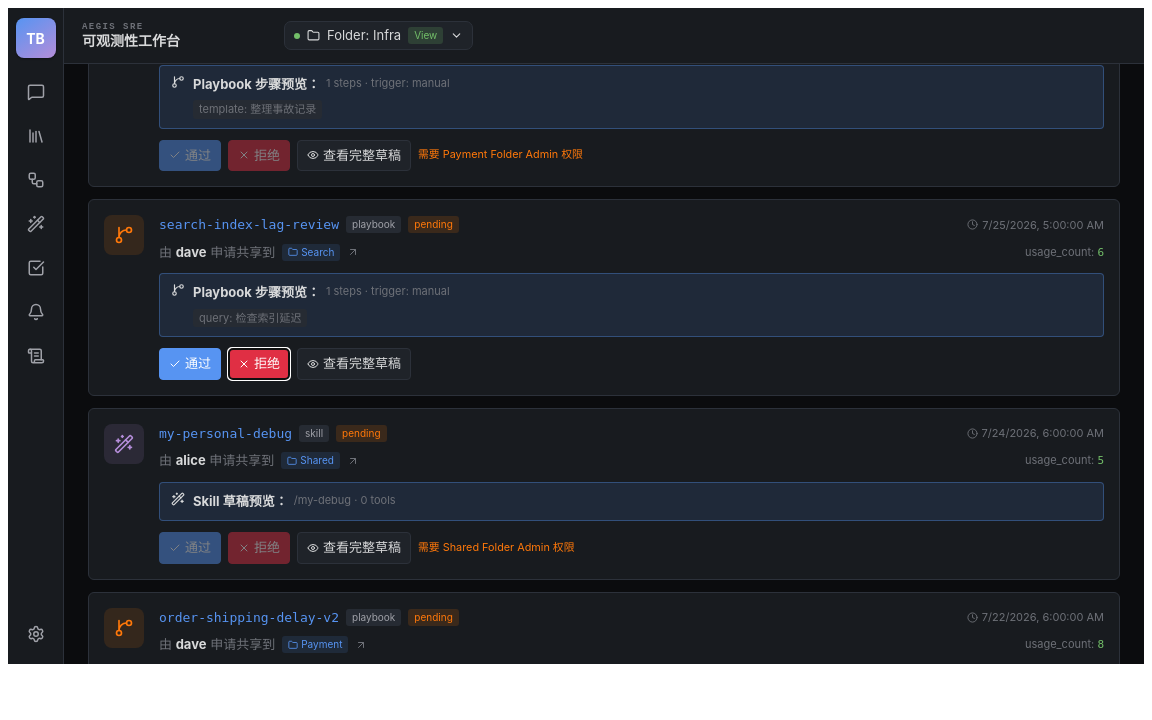
it: ApprovalsPage › validates rejection reason and persists a rejection
(page scrolled)
Click the button "拒绝" below "query" at coordinates (259, 364), box [228, 348, 290, 380]
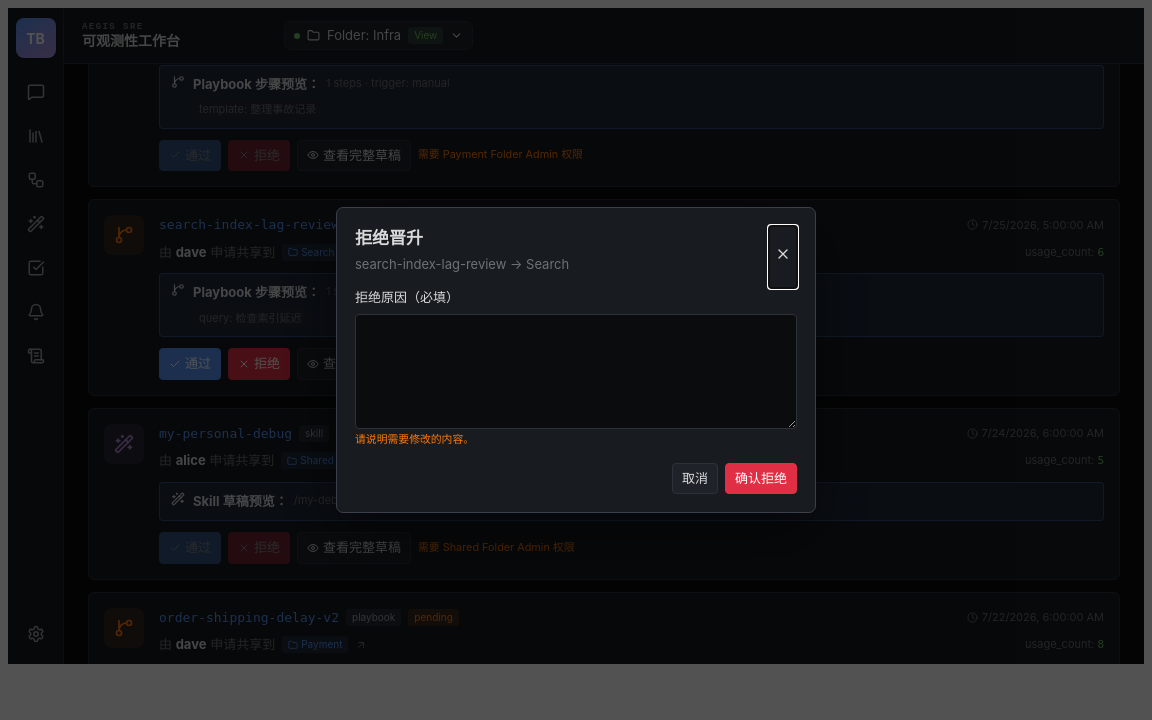
Press Escape
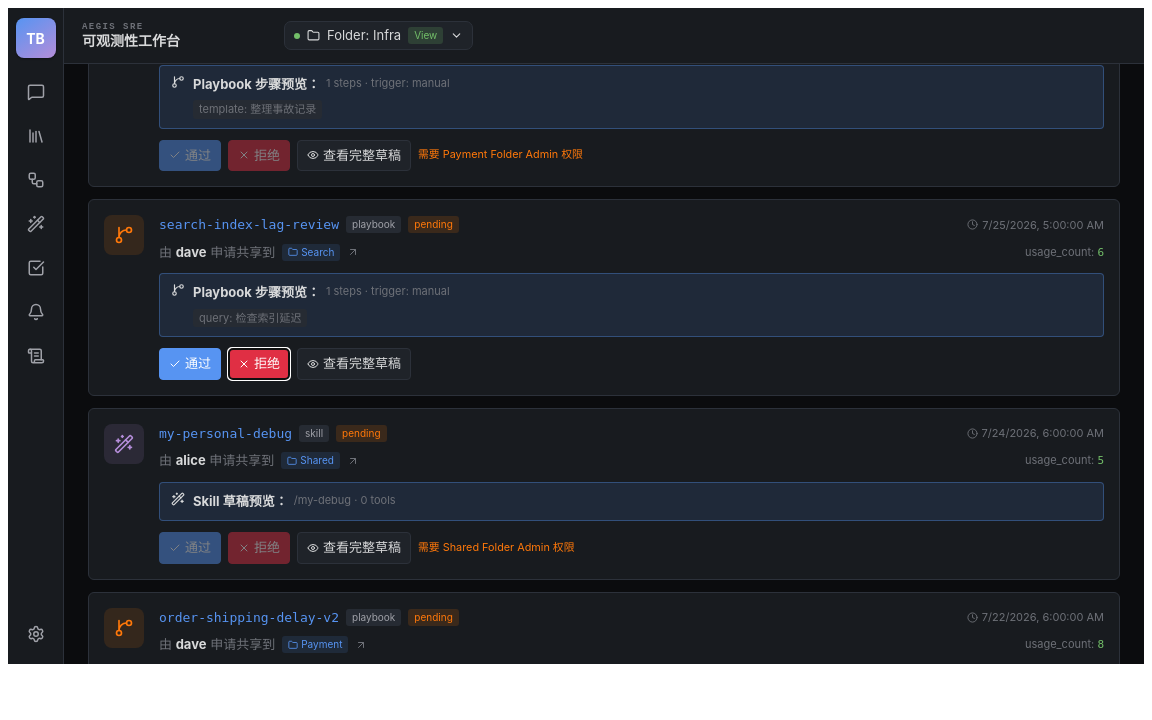
Click the button "拒绝" below "query" at coordinates (259, 364), box [228, 348, 290, 380]
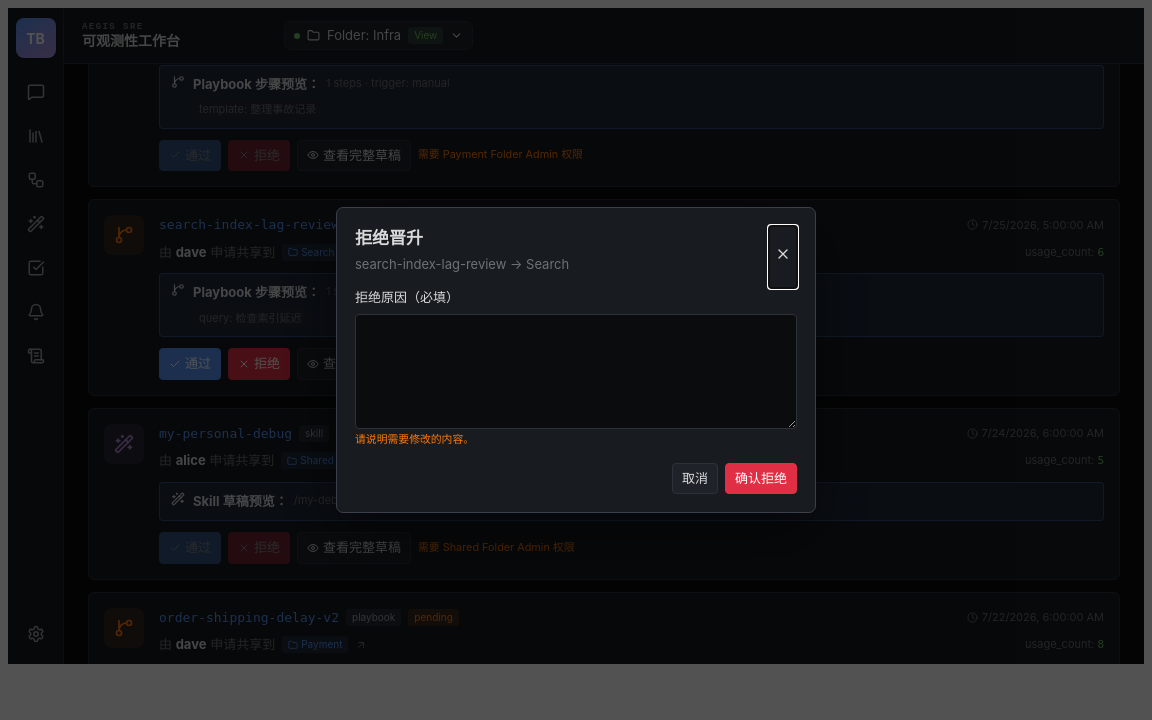
Expected: the button "确认拒绝" is disabled, [725, 462, 797, 494]
Type "请补充回滚步骤" into the text box labelled "拒绝原因" at coordinates (576, 371), box [355, 314, 797, 429]
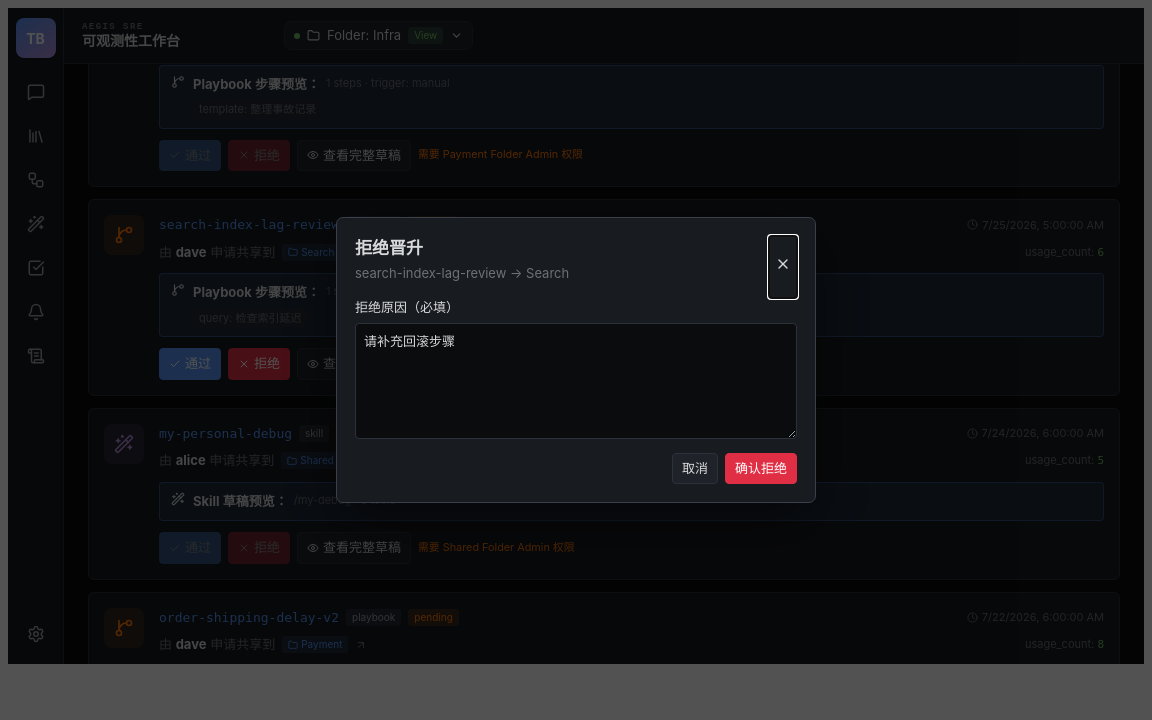
Click the button "确认拒绝" at coordinates (761, 469), box [725, 453, 797, 484]
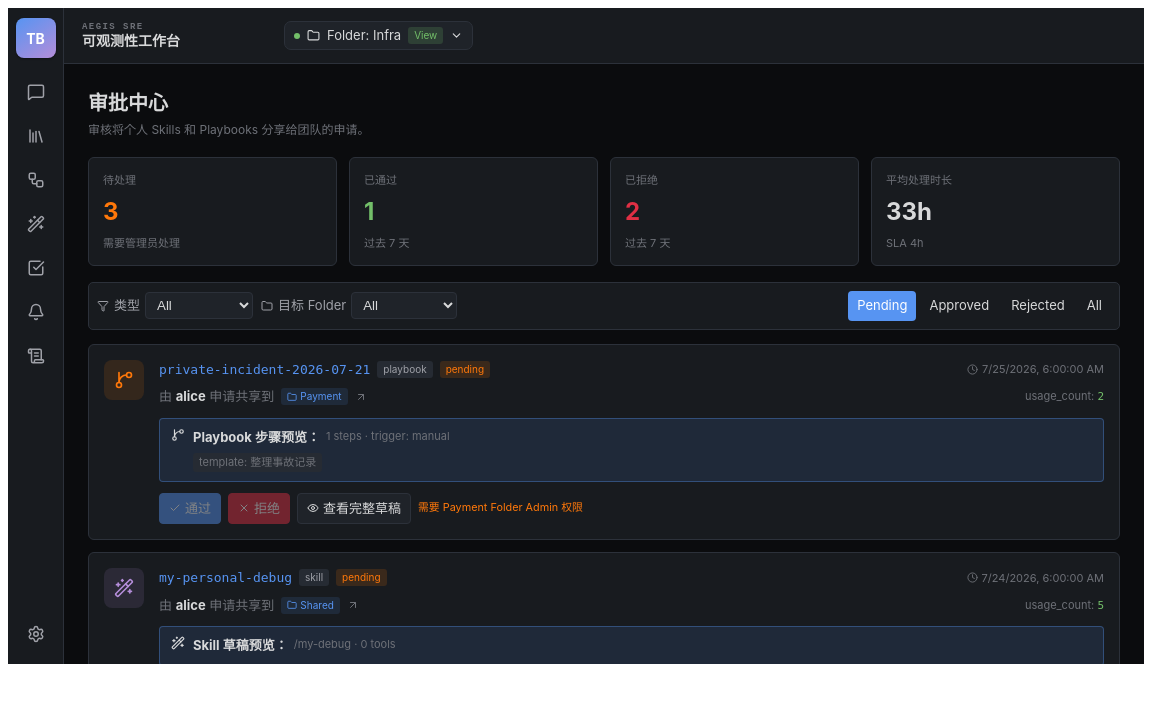
Expected: the text "search-index-lag-review" is gone
Click the button "rejected" at coordinates (1038, 306), box [1002, 291, 1074, 320]
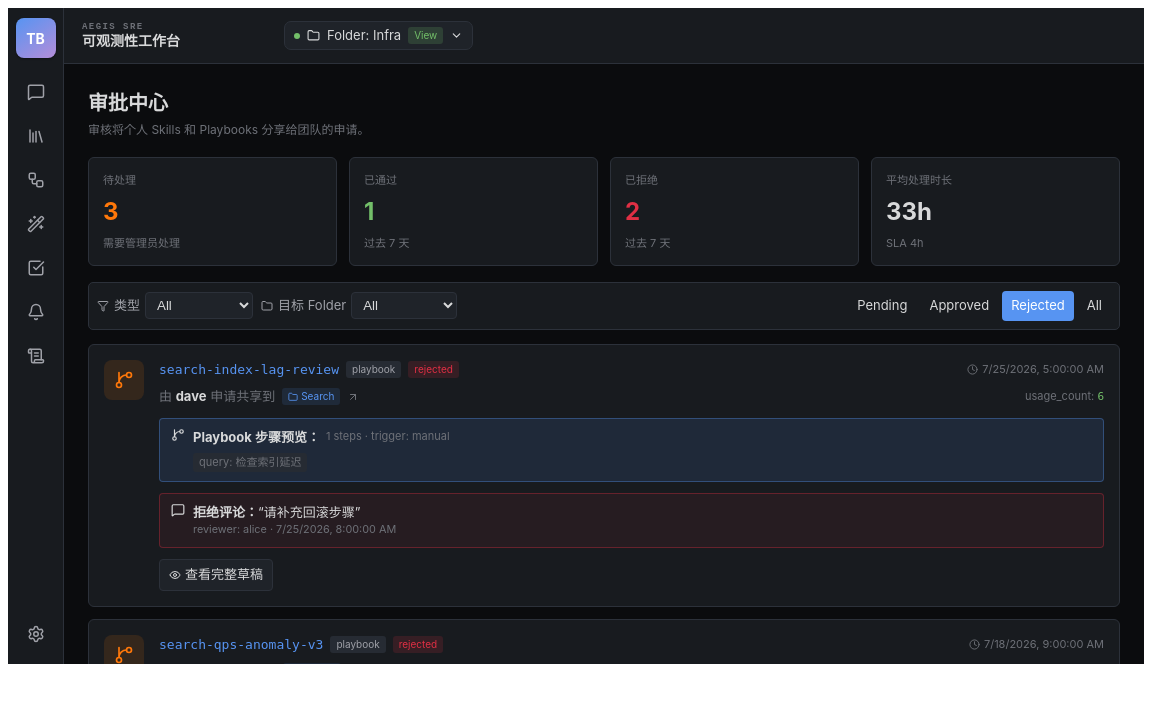
Expected: the text "search-index-lag-review" shows "请补充回滚步骤", [264, 504, 355, 520]
